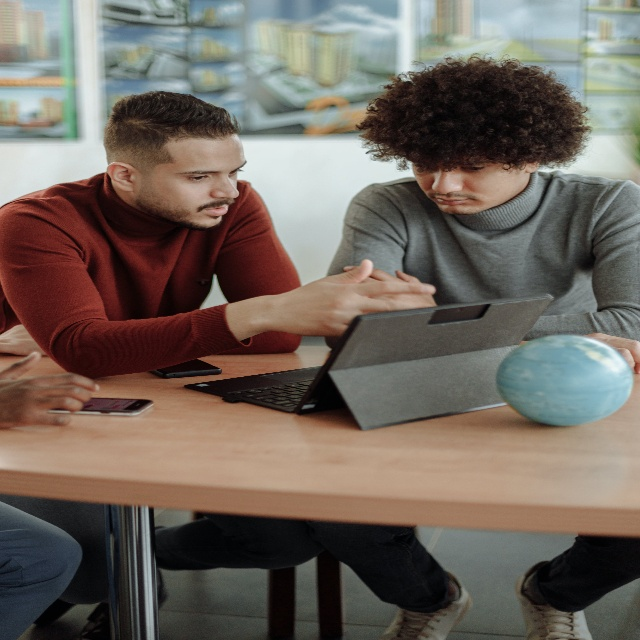Sin_guantes: (275, 255, 437, 341), (0, 350, 101, 435), (343, 260, 436, 309)
